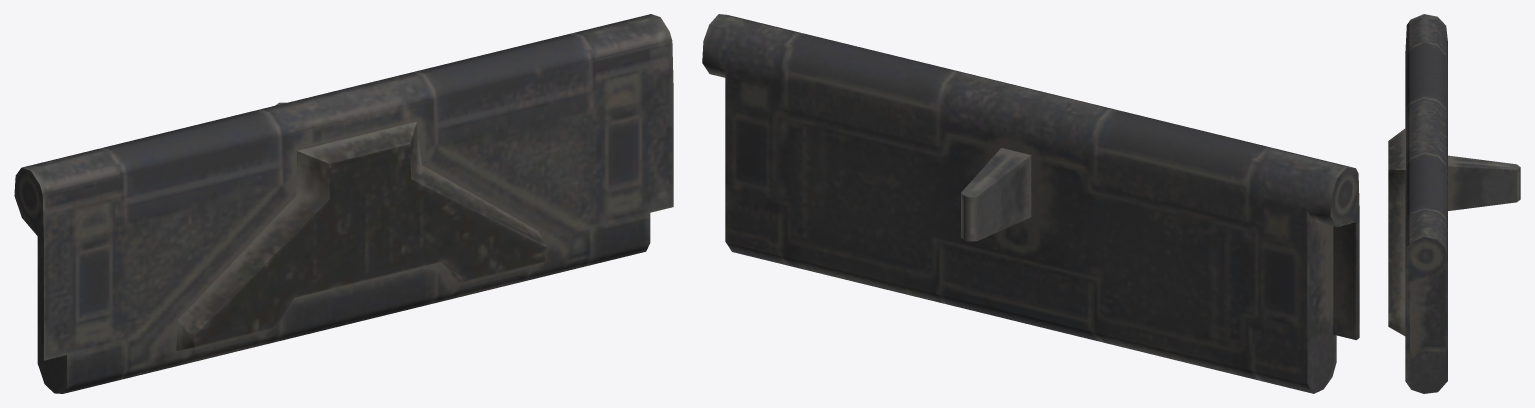
The picture shows the model from 3 angles, left to right: view 1: azimuth 30°, elevation 25°; view 2: azimuth 150°, elevation 25°; view 3: azimuth 270°, elevation 25°; orthographic projection. The views are drawn at different scales.
Parts seen in each view (by area): view 1: set_0_group_0; view 2: set_0_group_0; view 3: set_0_group_0.
Boxes of the visible parts, box(x1,y1,x2,y2) form: set_0_group_0: box(14, 14, 673, 393); set_0_group_0: box(702, 14, 1359, 393); set_0_group_0: box(1388, 14, 1520, 393).
Bounding box in the file's own units: 0.6102 × 0.2113 × 0.1532.
1 material, 1 textured.
